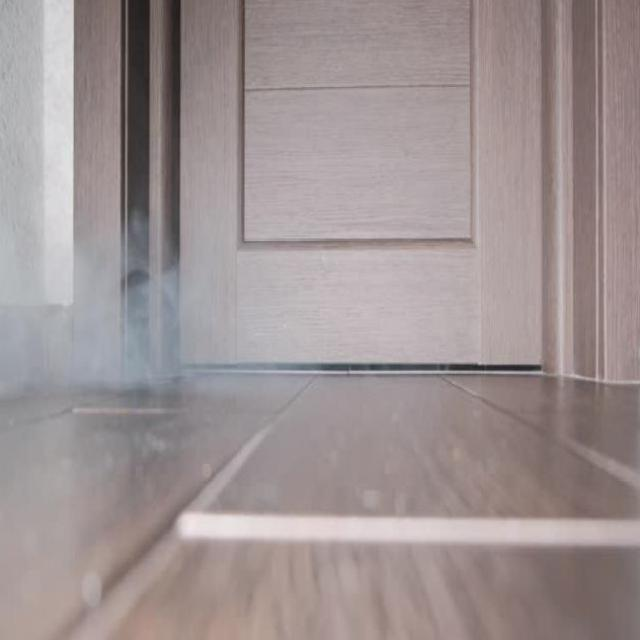fire: (0, 202, 316, 397)
